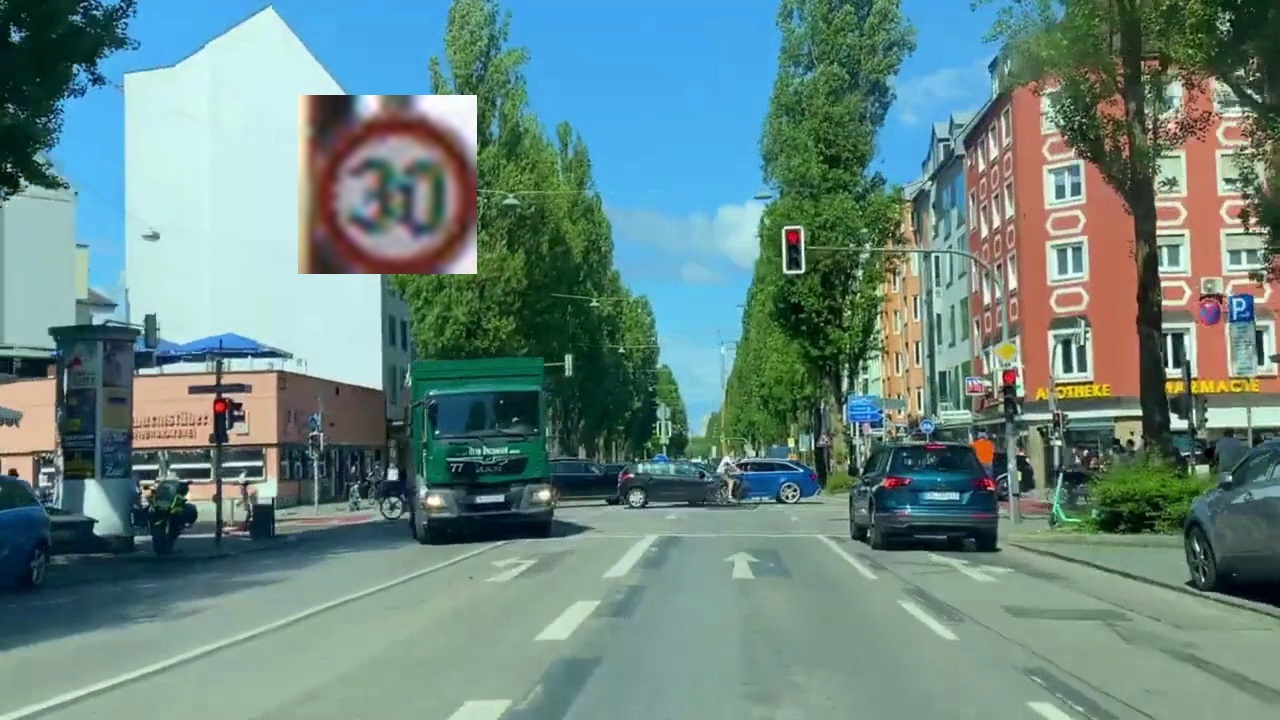Speed 30: (298, 95, 477, 274)
